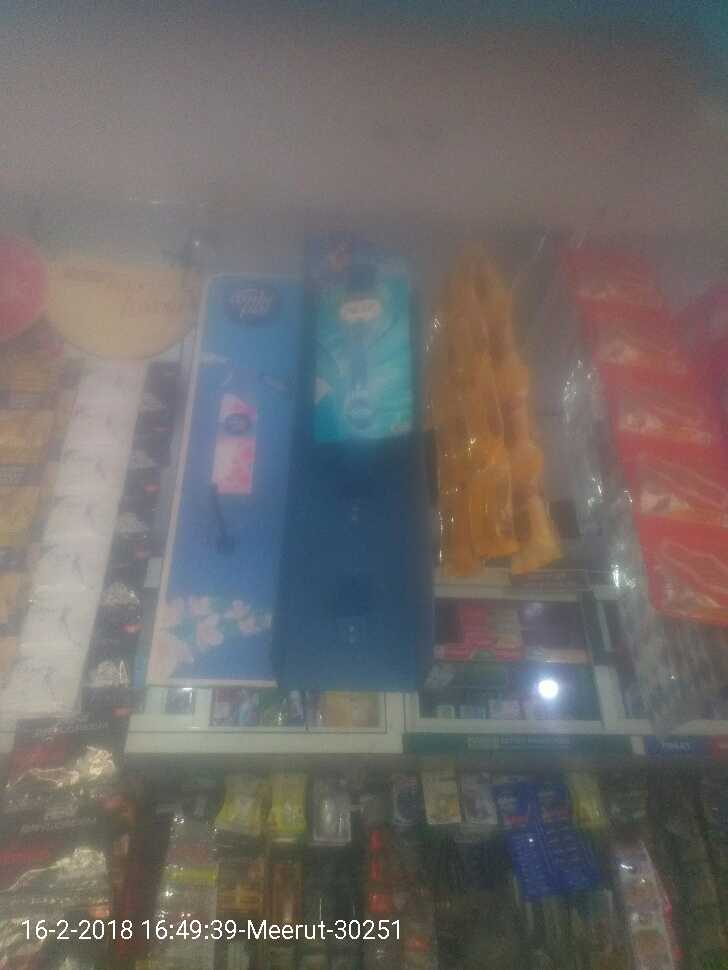venus: (311, 240, 417, 440)
